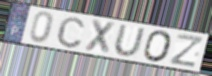0: (28, 11, 56, 45)
C: (55, 15, 87, 50)
O: (142, 29, 174, 63)
U: (112, 24, 147, 59)
X: (83, 18, 118, 56)
Z: (168, 32, 205, 69)
